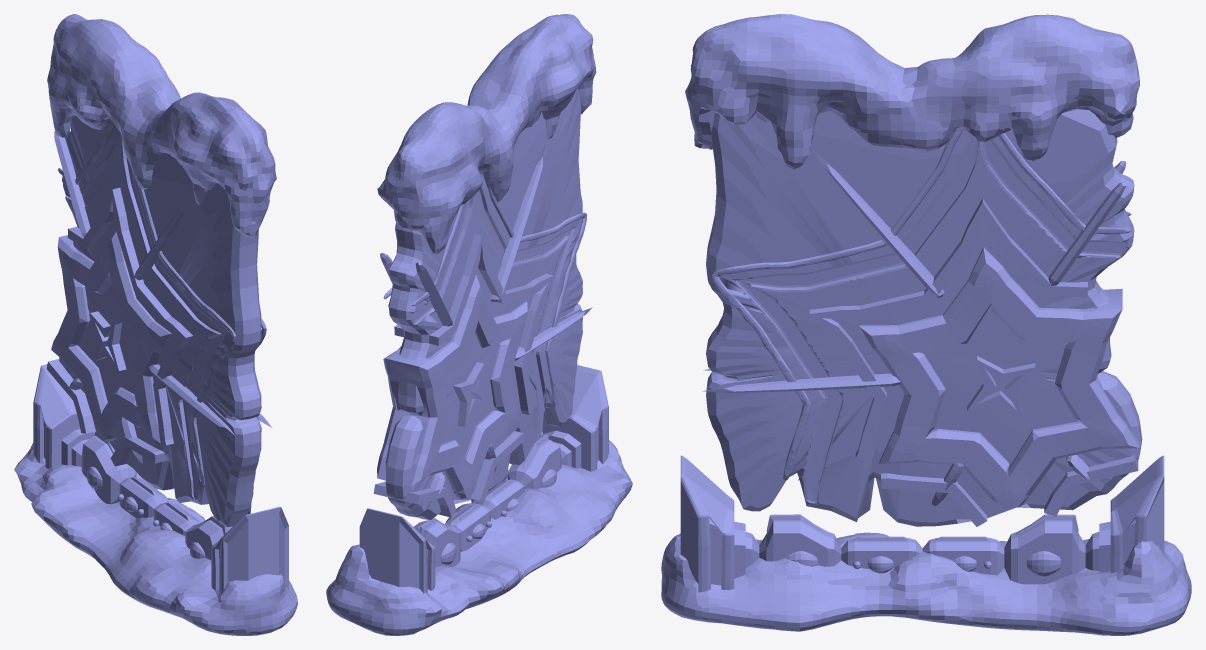
The model's file is st3_ice_wall.fbx.
3 renders of one model, left to right at view 1: azimuth 30°, elevation 25°; view 2: azimuth 150°, elevation 25°; view 3: azimuth 270°, elevation 25°, orthographic. The views are drawn at different scales.
Visible parts, largest first — view 1: stage3_skill_gimmick_ice_crystal1, stage3_skill_gimmick_door_support1; view 2: stage3_skill_gimmick_ice_crystal1, stage3_skill_gimmick_door_support1; view 3: stage3_skill_gimmick_ice_crystal1, stage3_skill_gimmick_door_support1.
Boxes of the visible parts, x1,y1,x2,y2 form: stage3_skill_gimmick_ice_crystal1: [46, 14, 276, 526]; stage3_skill_gimmick_door_support1: [14, 364, 297, 635]; stage3_skill_gimmick_ice_crystal1: [373, 14, 596, 520]; stage3_skill_gimmick_door_support1: [326, 365, 632, 635]; stage3_skill_gimmick_ice_crystal1: [685, 14, 1142, 526]; stage3_skill_gimmick_door_support1: [661, 455, 1191, 635].
Size of the model in its own units: 118 by 396 by 318.
